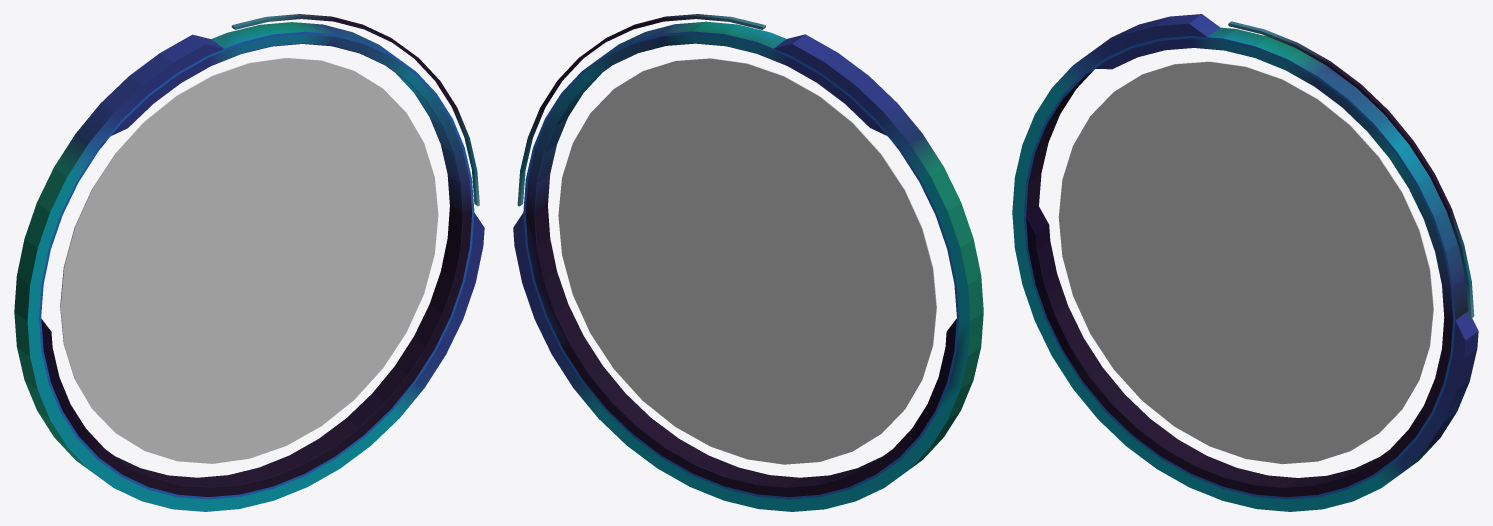
The model's file is W_O_Neonsign_008.fbx.
The picture shows the model from 3 angles, left to right: view 1: azimuth 30°, elevation 25°; view 2: azimuth 150°, elevation 25°; view 3: azimuth 330°, elevation 25°; orthographic projection.
Visible parts, largest first — view 1: W_O_Neonsign_008; view 2: W_O_Neonsign_008; view 3: W_O_Neonsign_008.
Part boxes in pixels (x1,y1,x2,y2): W_O_Neonsign_008: (14, 14, 484, 511); W_O_Neonsign_008: (513, 14, 983, 511); W_O_Neonsign_008: (1012, 14, 1478, 511).
Bounding box in the file's own units: 4.84 × 0.2426 × 4.83.
